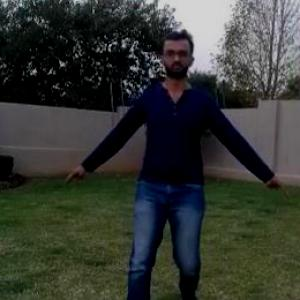land: (63, 31, 274, 286)
